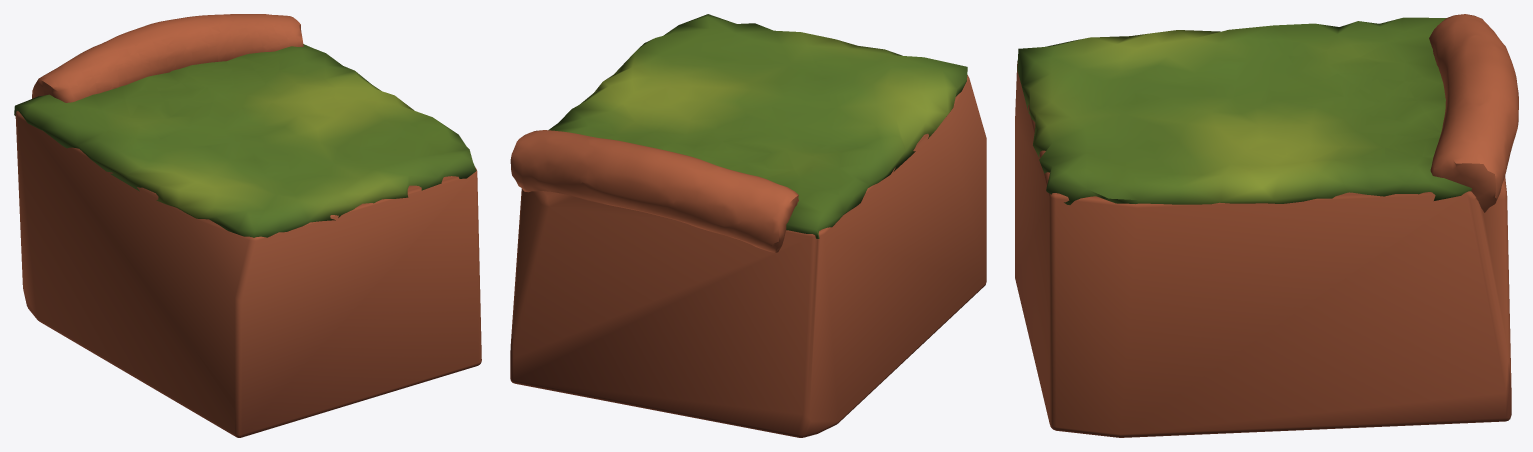
File: mire_pot_shard.glb
3 renders of one model, left to right at view 1: azimuth 30°, elevation 25°; view 2: azimuth 150°, elevation 25°; view 3: azimuth 270°, elevation 25°, orthographic. The views are drawn at different scales.
Parts seen in each view (by area): view 1: mire_pot_shard; view 2: mire_pot_shard; view 3: mire_pot_shard.
Boxes of the visible parts, x1,y1,x2,y2 form: mire_pot_shard: (14, 14, 481, 437); mire_pot_shard: (510, 14, 986, 437); mire_pot_shard: (1015, 14, 1518, 437).
Size of the model in its own units: 5.51 by 4.13 by 6.55.
